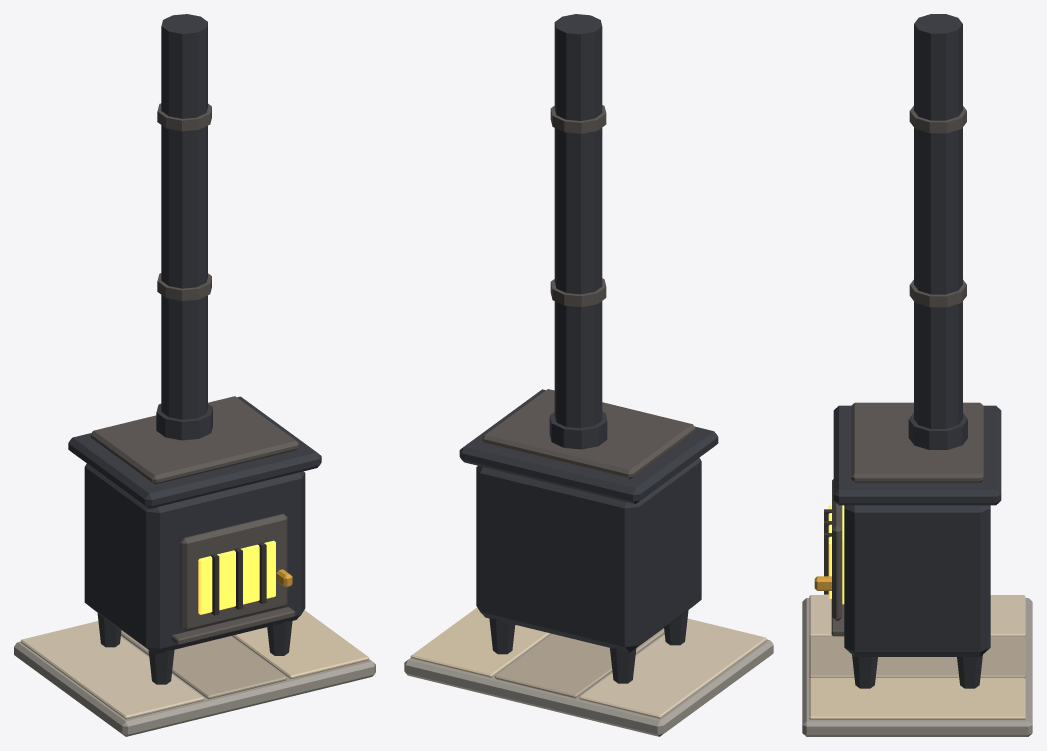
The model's file is wood_stove.glb.
The picture shows the model from 3 angles, left to right: view 1: azimuth 30°, elevation 25°; view 2: azimuth 150°, elevation 25°; view 3: azimuth 270°, elevation 25°; orthographic projection. The views are drawn at different scales.
Parts seen in each view (by area): view 1: wood_stove, part_door; view 2: wood_stove; view 3: wood_stove, part_door.
Part boxes in pixels (x1,y1,x2,y2): wood_stove: (14, 14, 375, 736); part_door: (180, 514, 292, 630); wood_stove: (404, 14, 773, 736); wood_stove: (802, 14, 1032, 736); part_door: (814, 479, 842, 620).
Size of the model in its own units: 0.86 by 2.06 by 0.66.
